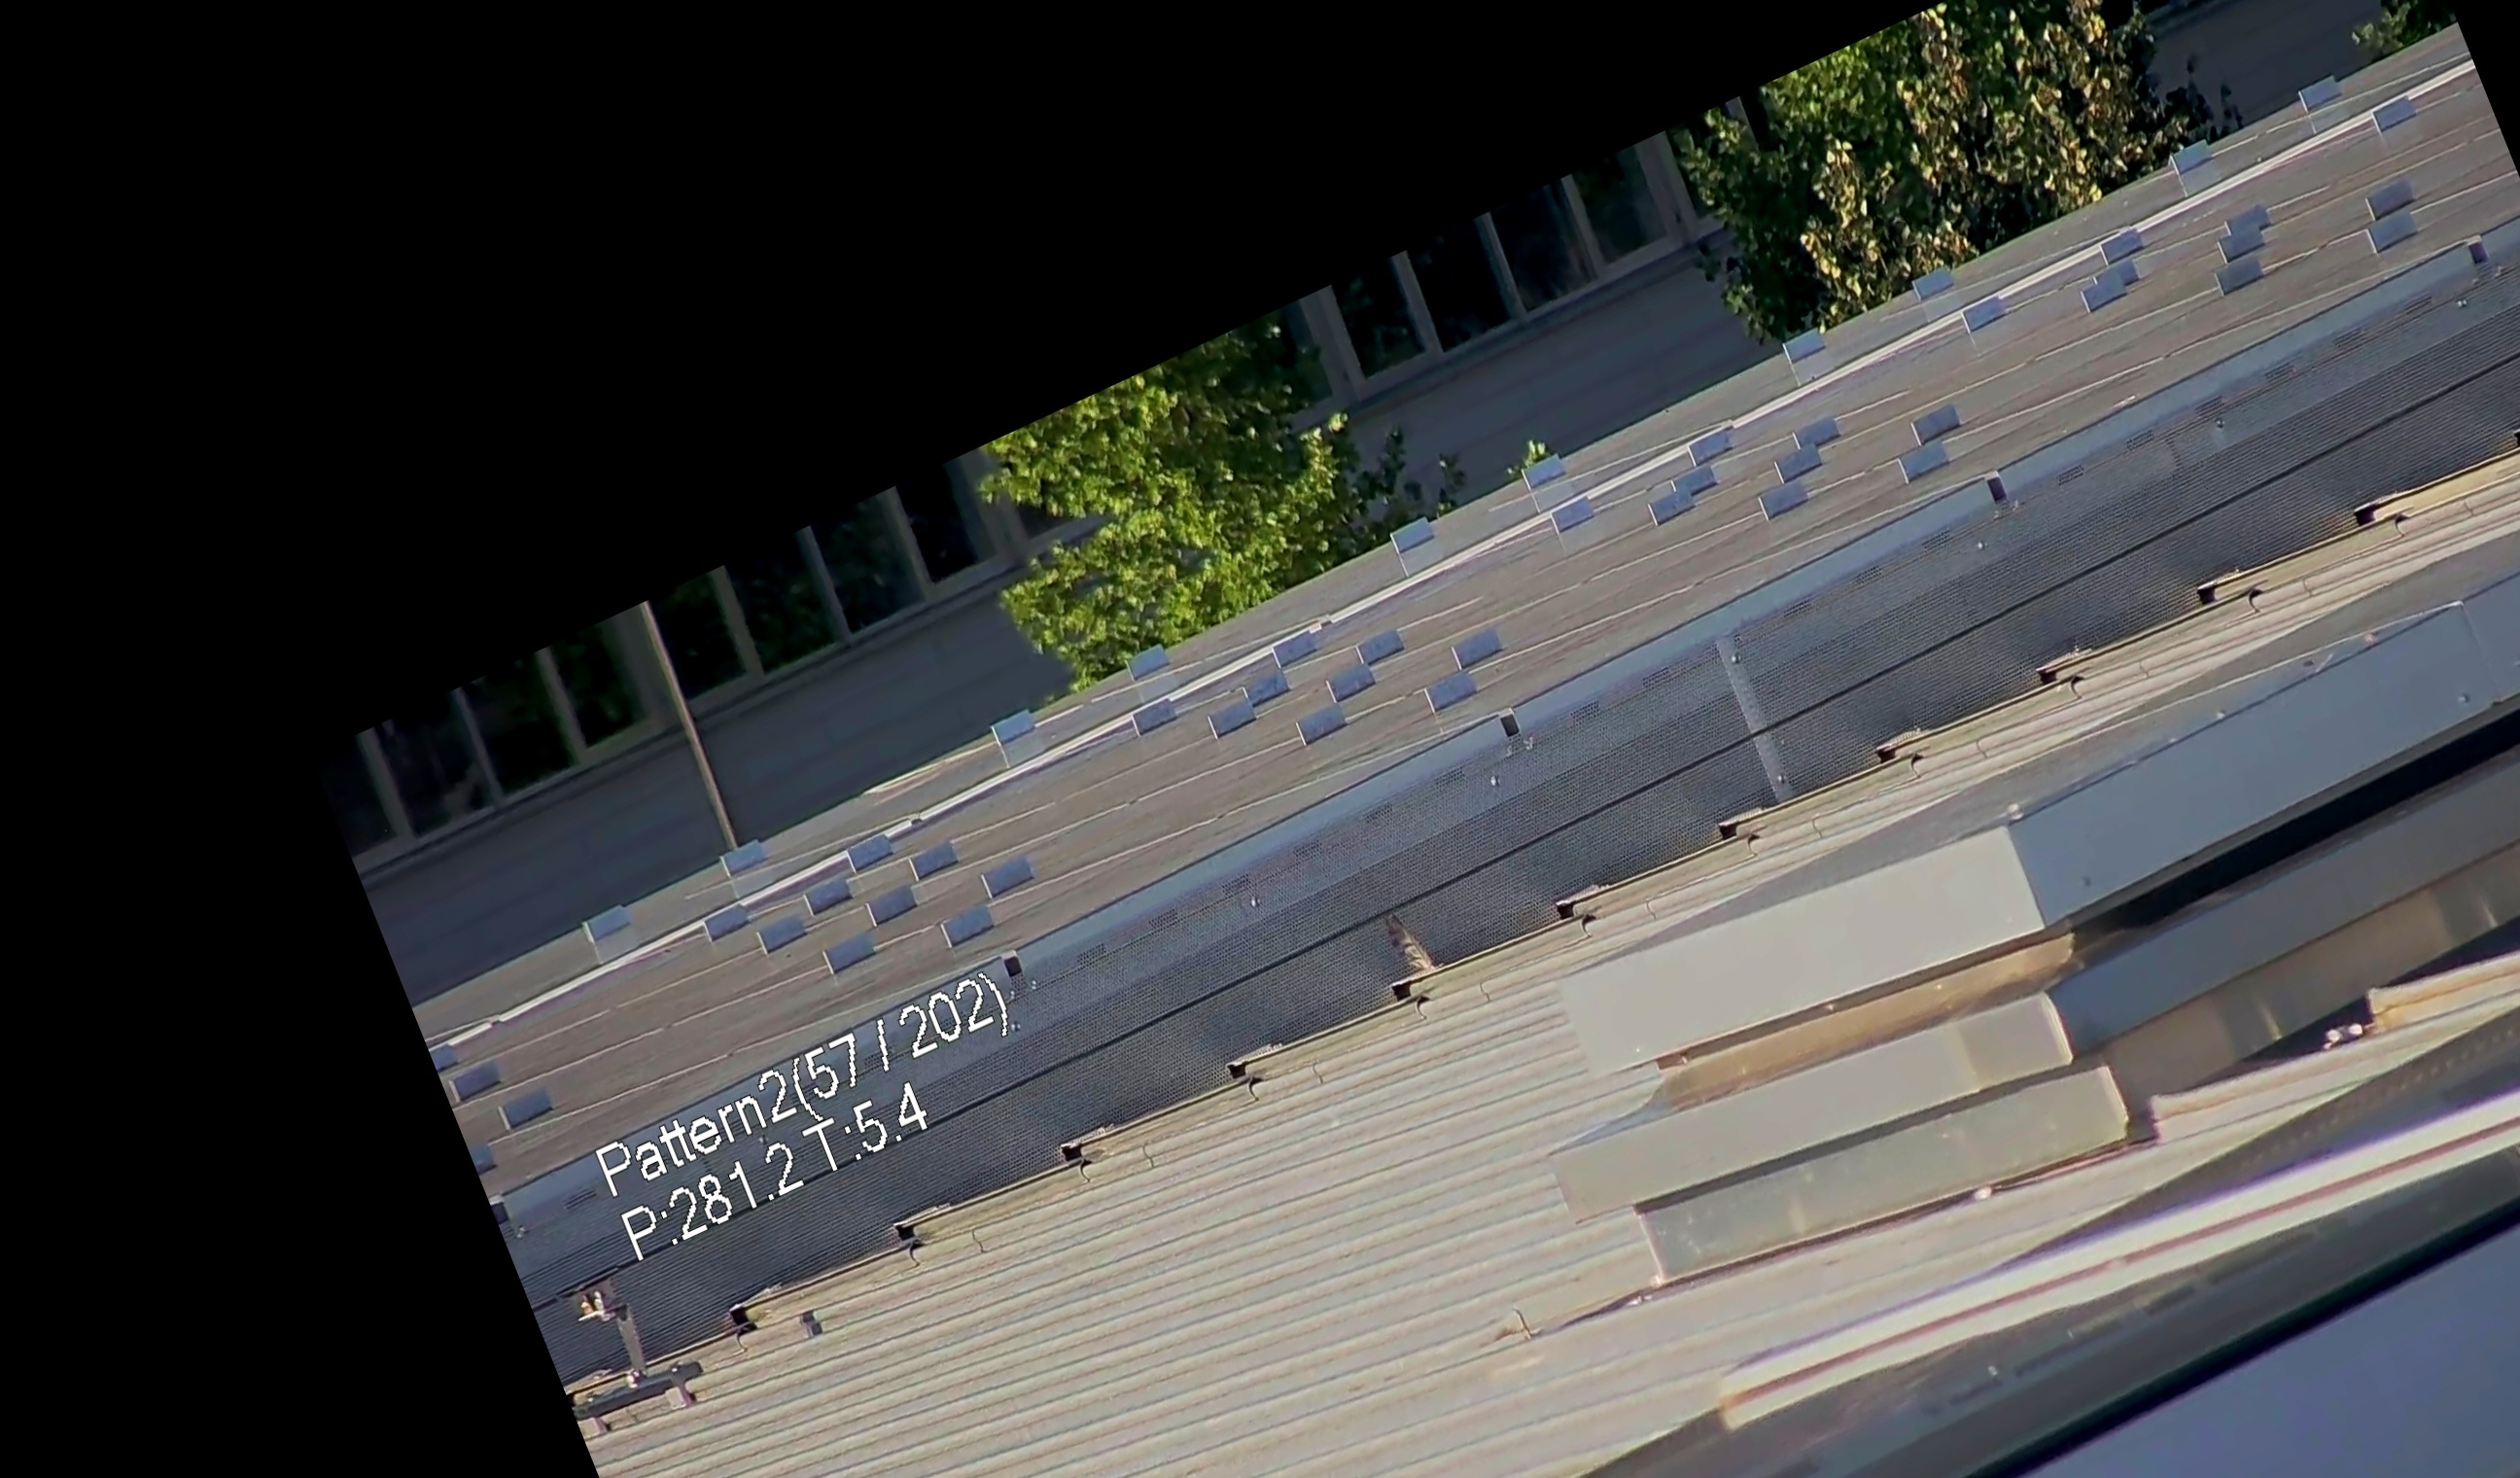Other: (1349, 883, 1454, 1029)
